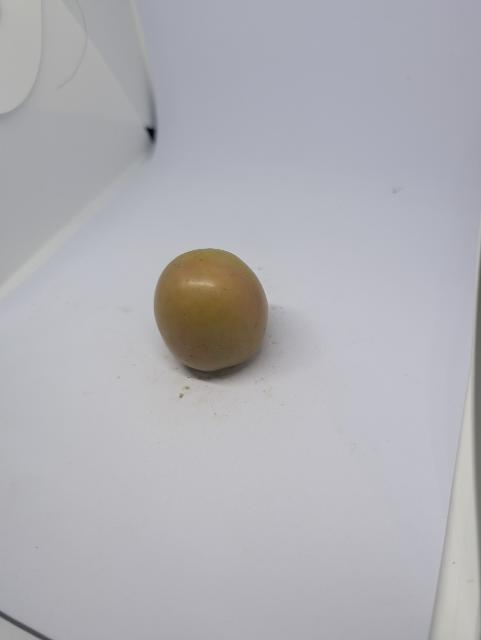breaker: (151, 242, 274, 384)
